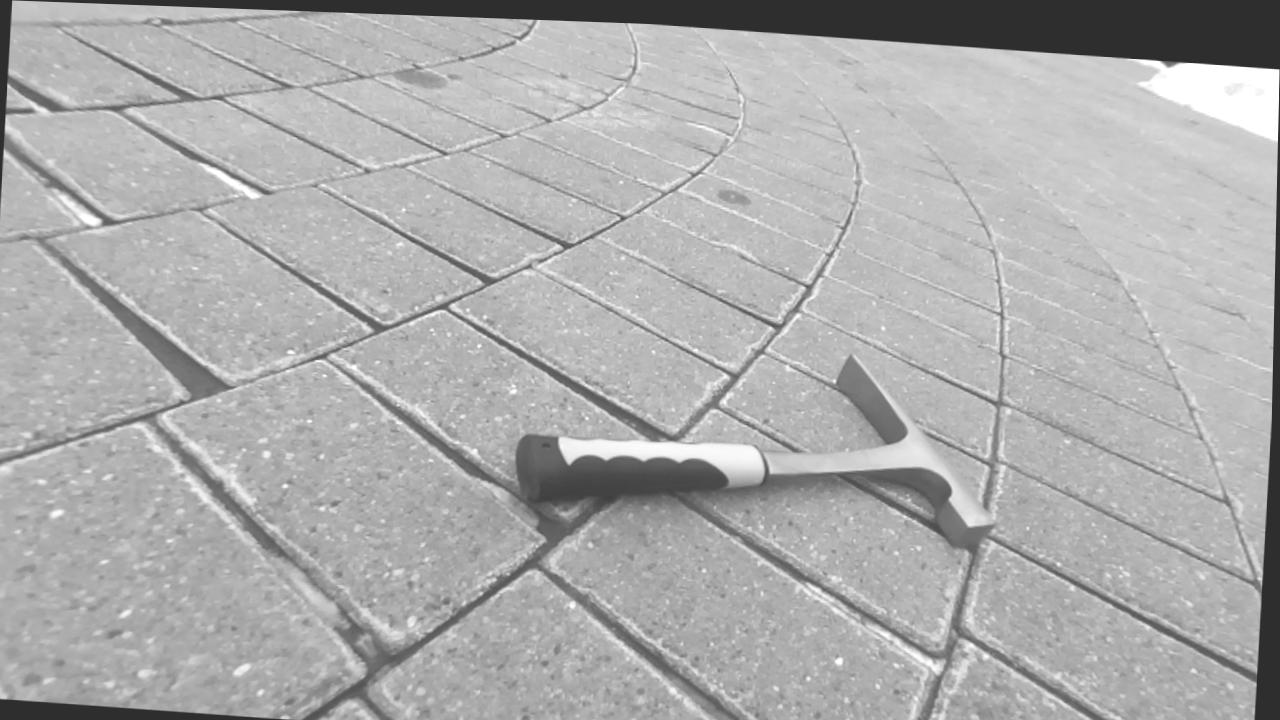pick: (515, 355, 993, 547)
